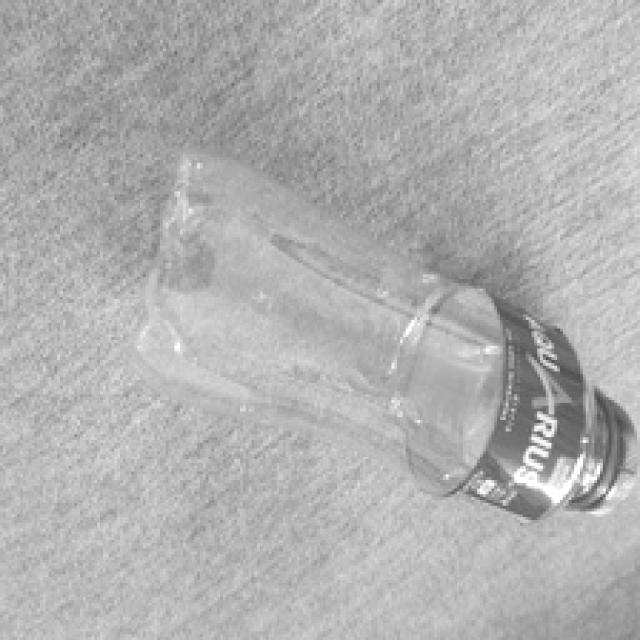bottle: (132, 148, 639, 540)
